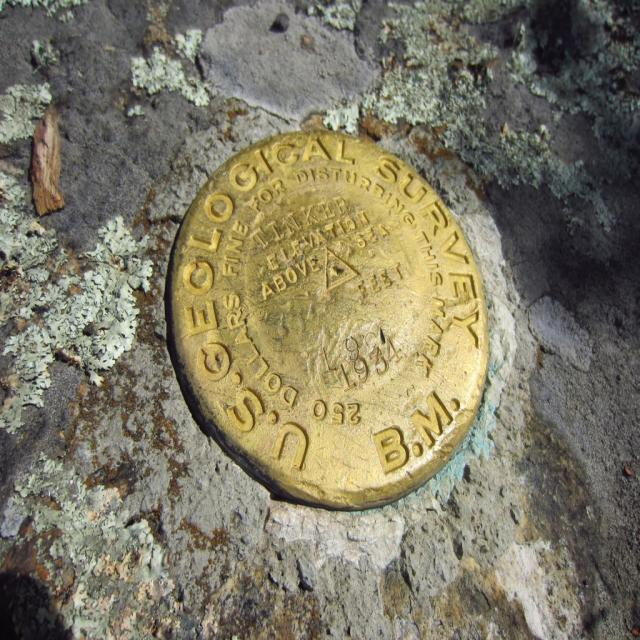Coin: (164, 120, 502, 516)
